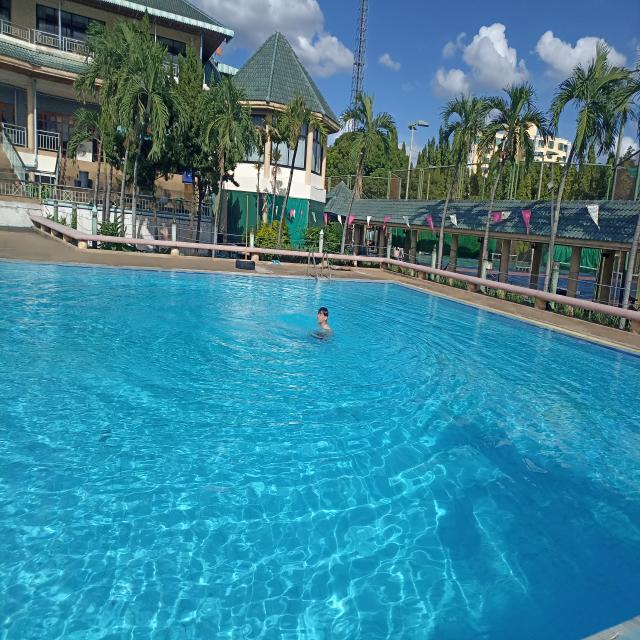Swimming: (306, 302, 338, 341)
